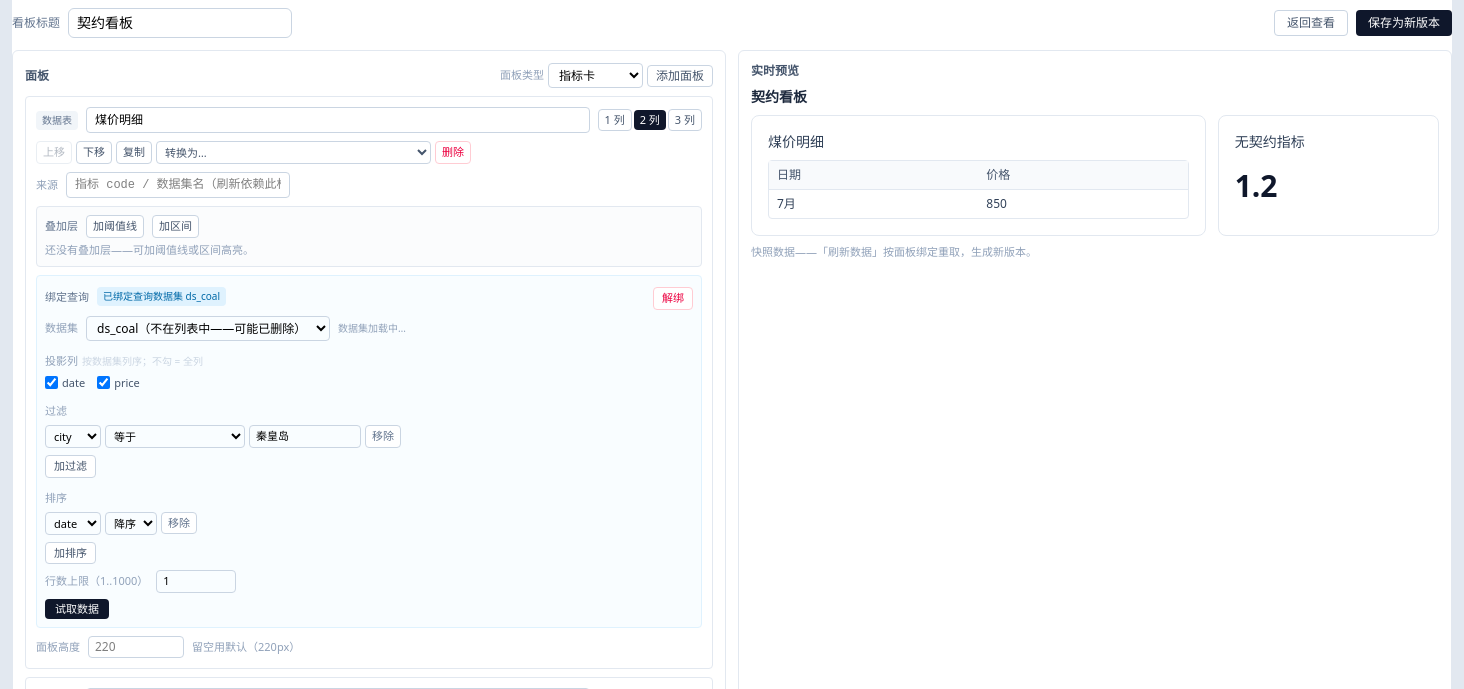
Test: DashboardEditor 绑定查询表单（wire-panel-query-binding 任务 2.1/2.2） › 试取成功：POST 体=面板 query；snapshot 写进本地编辑态面板（预览即所得，不算保存）
Check: the dropdown with test id "editor-query-dataset" shows "ds_coal（不在列表中——可能已删除）", box [86,316,330,340]
Click the button with test id "editor-query-try": coordinates (77, 609) [45,598,109,619]
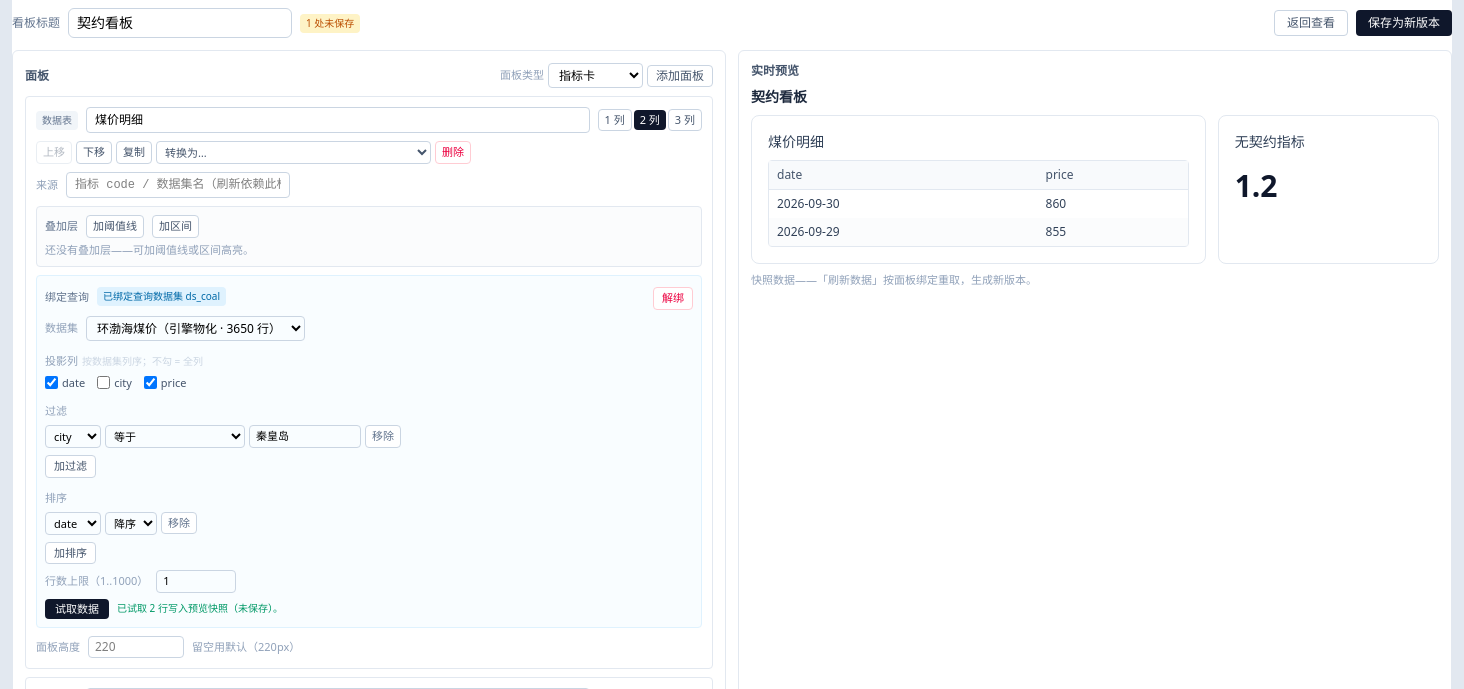
Check: the text with test id "editor-query-try-ok" shows "已试取 2 行", box [117,601,283,615]
Note: 试取只进本地——未保存计数可见（q1 有差异），保存后 PUT 落盘
Click the button with test id "editor-save": coordinates (1404, 23) [1356,10,1452,36]
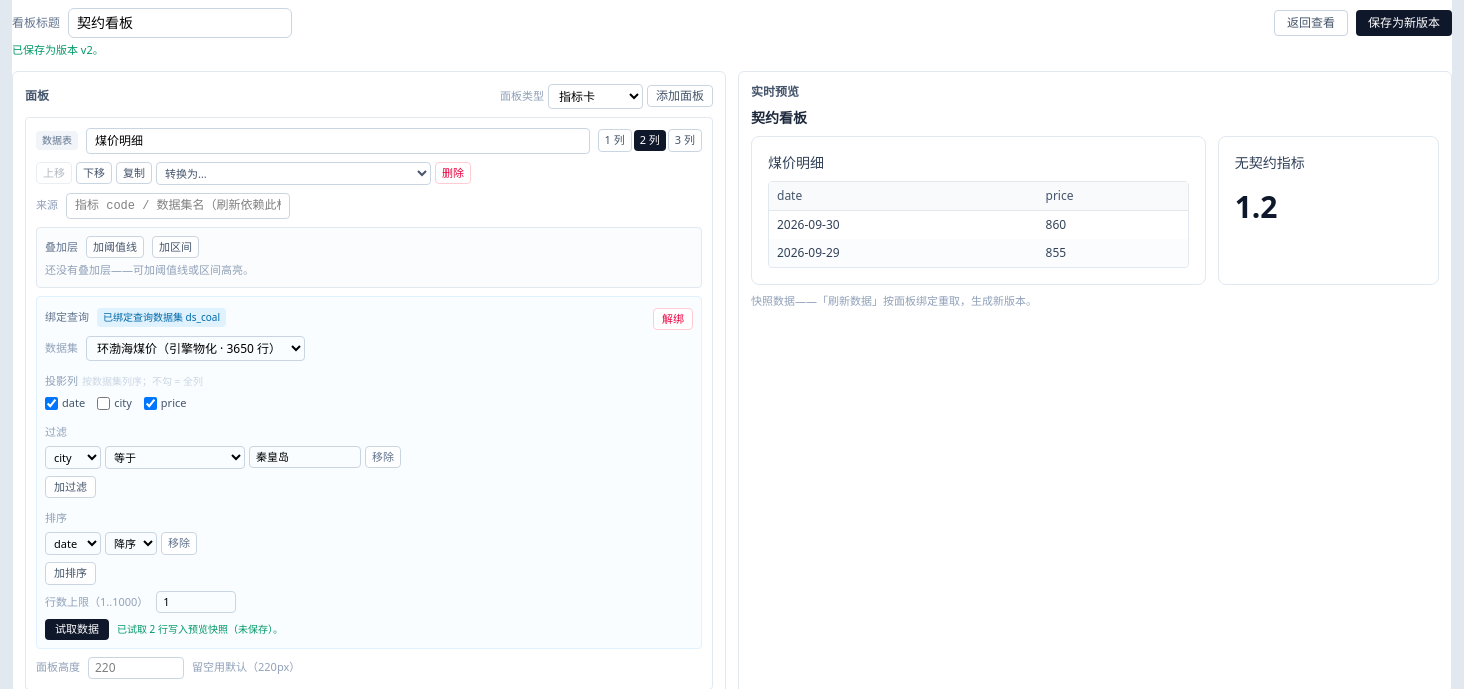
Check: the text "已保存为版本 v2。" is shown, box [12,42,104,57]
